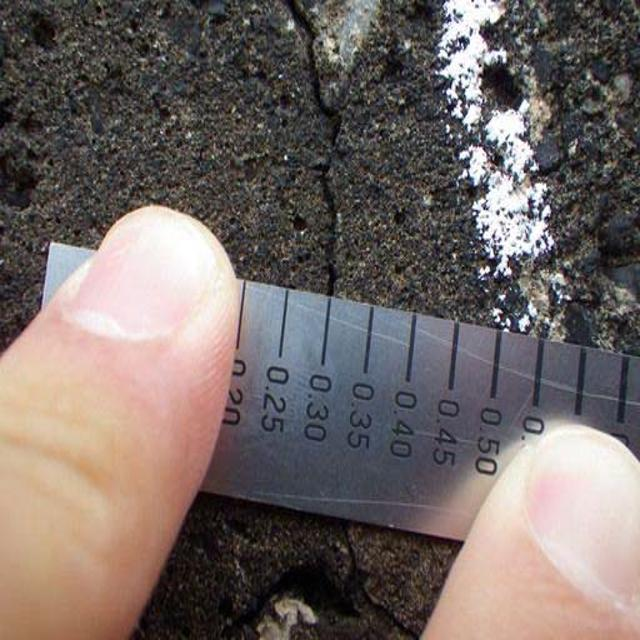crack: (284, 6, 363, 287)
